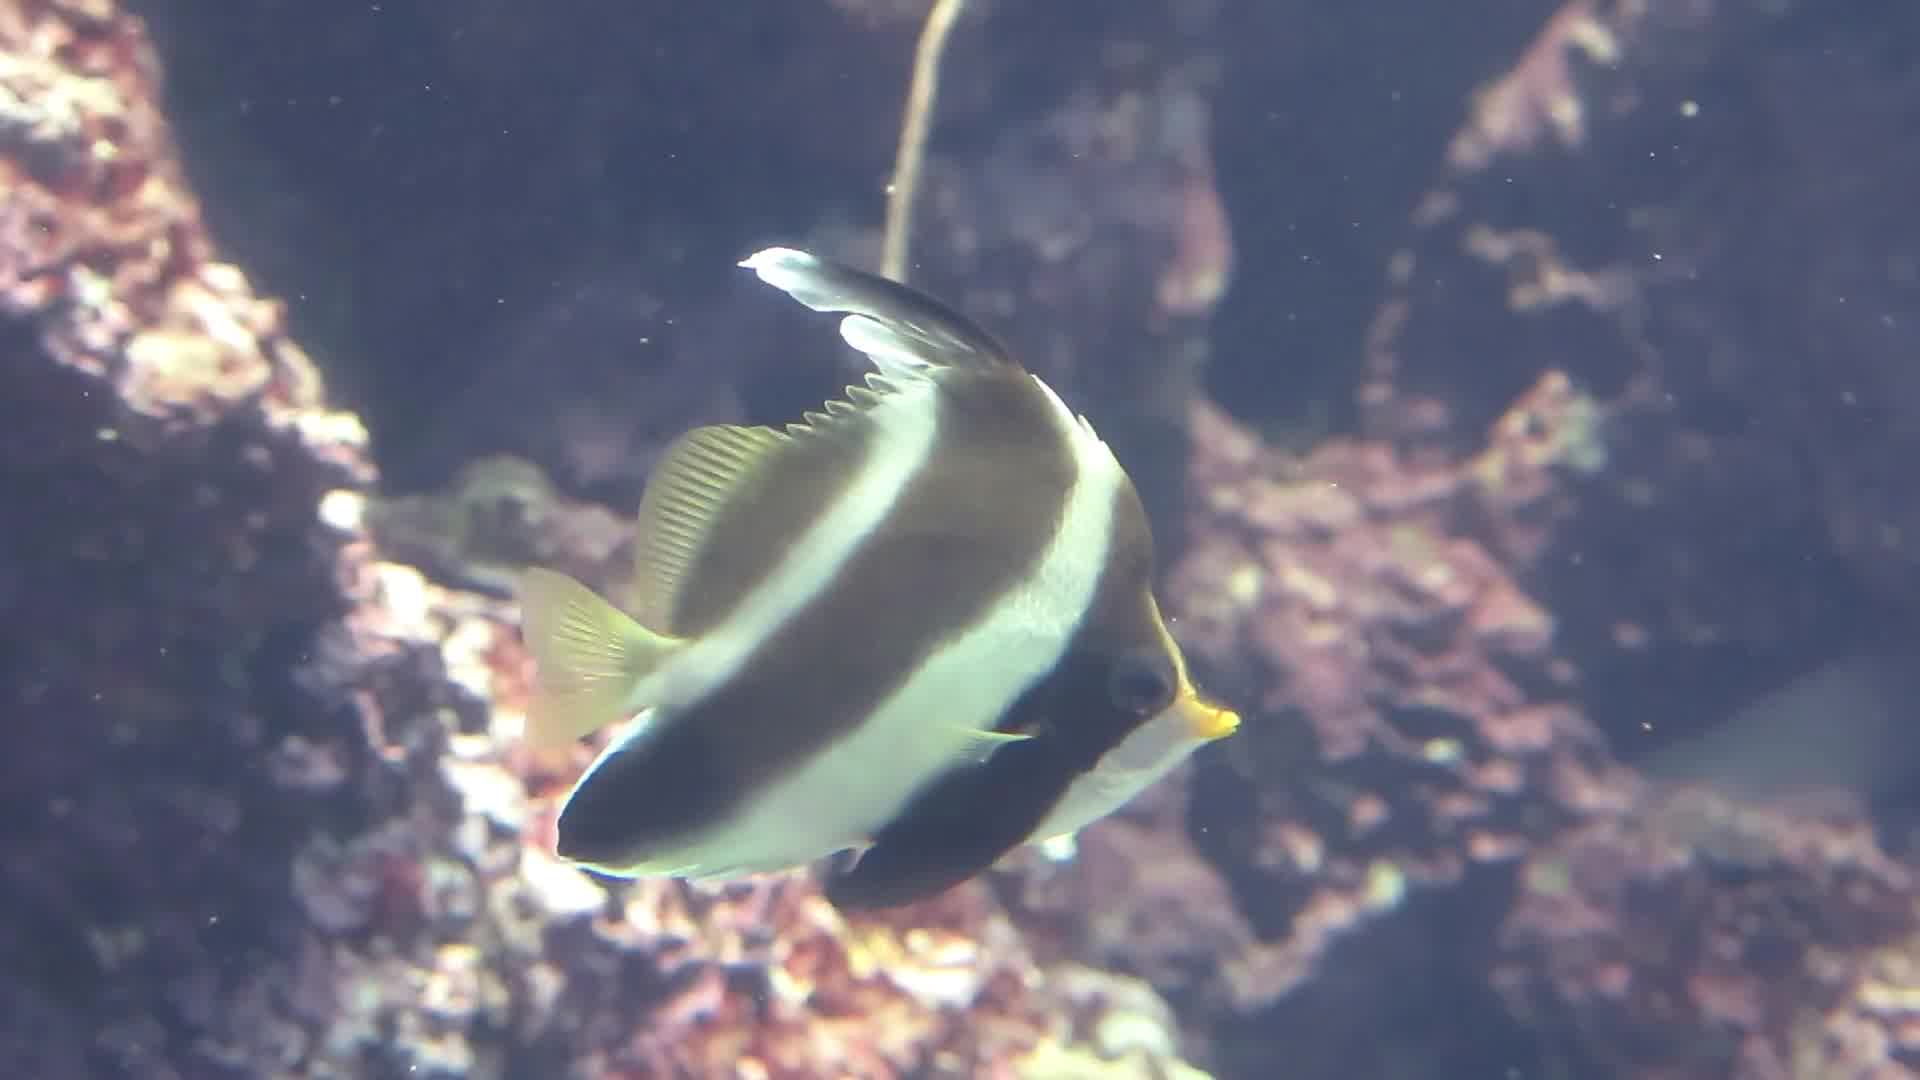Heniochus chrysostomus: (500, 84, 1258, 931)
